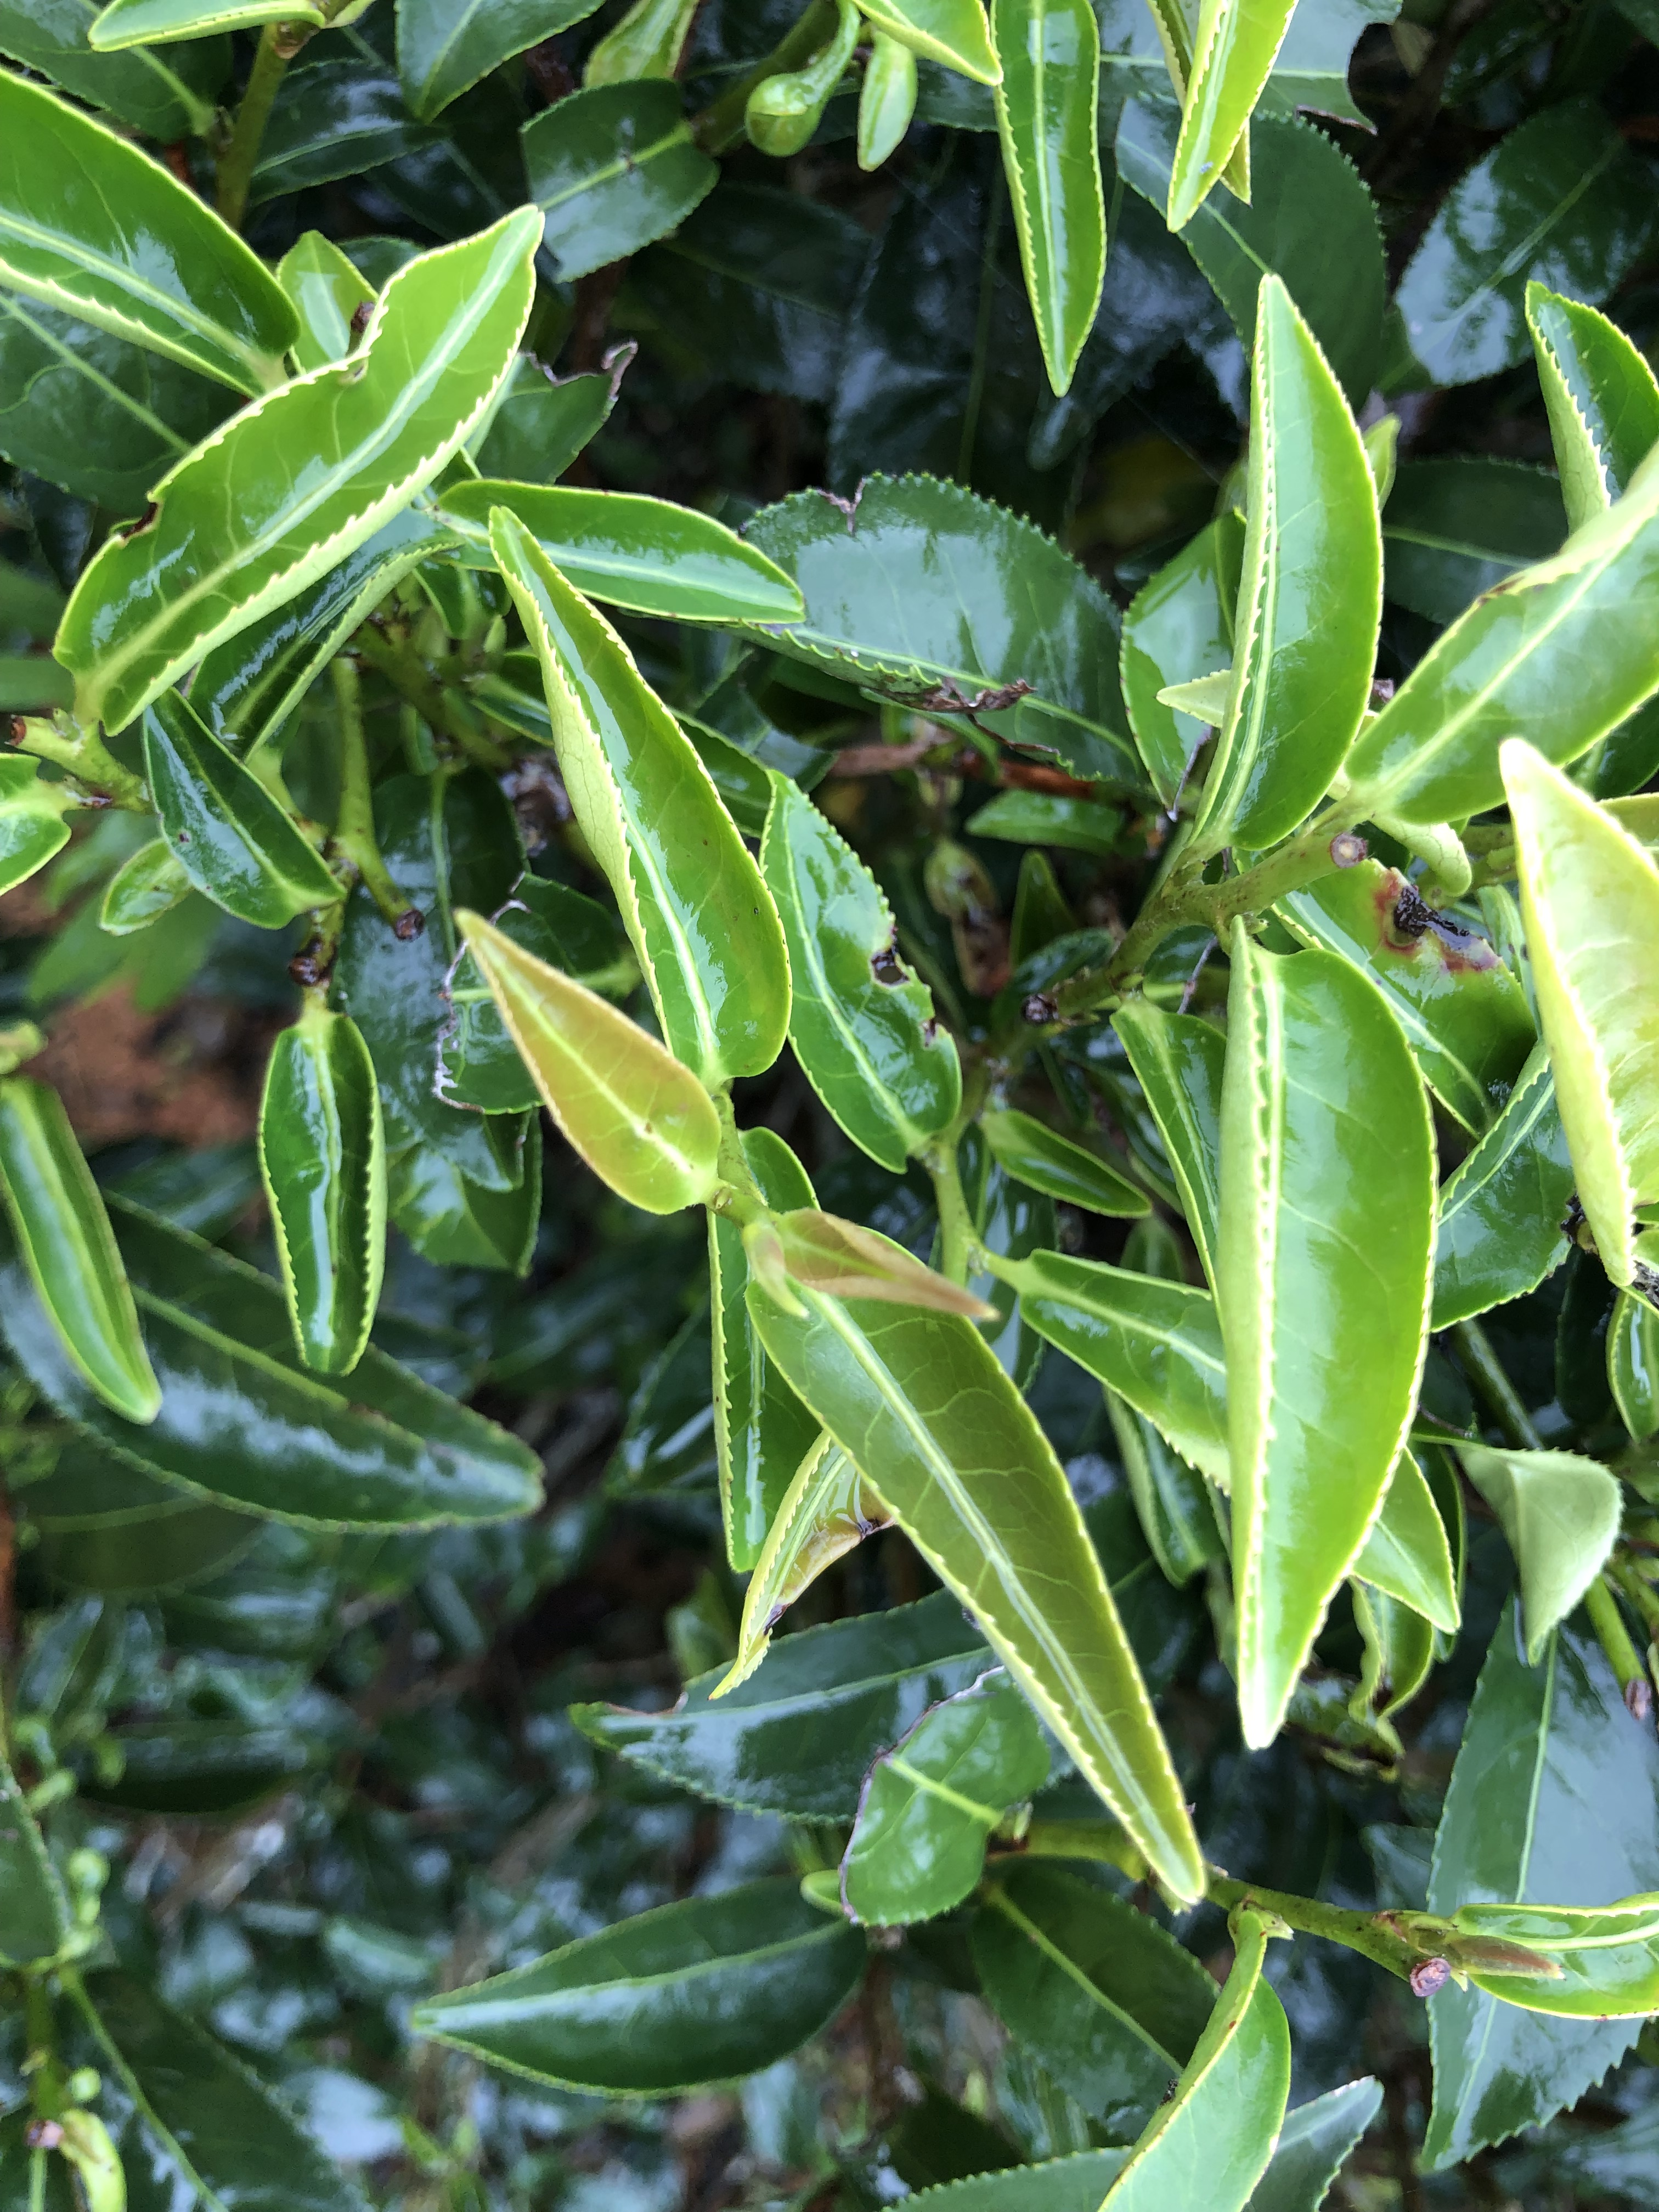caloptilia: (1446, 1426, 1633, 1670)
formosa: (460, 911, 720, 1207)
tortrix: (716, 1426, 892, 1679)
